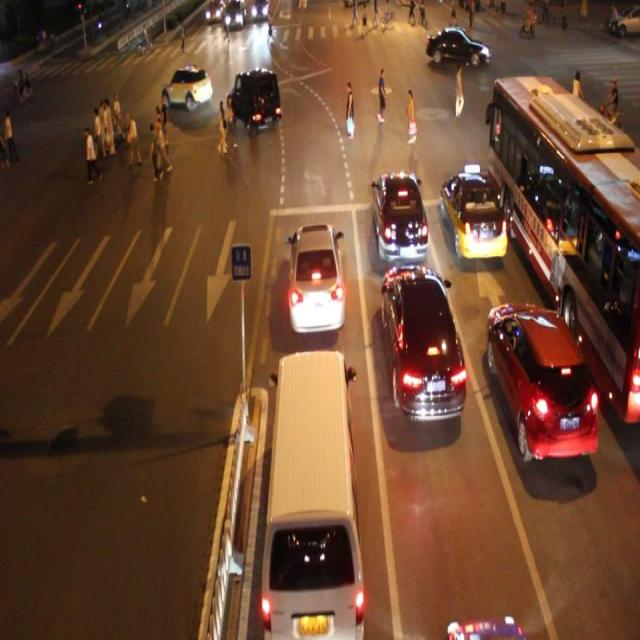car: (486, 300, 597, 456), (380, 262, 467, 415), (287, 220, 344, 330), (441, 170, 508, 260), (372, 167, 429, 264), (227, 68, 280, 130), (424, 23, 489, 68), (160, 64, 213, 110)
truck: (260, 349, 364, 640)
van: (491, 71, 640, 418)
